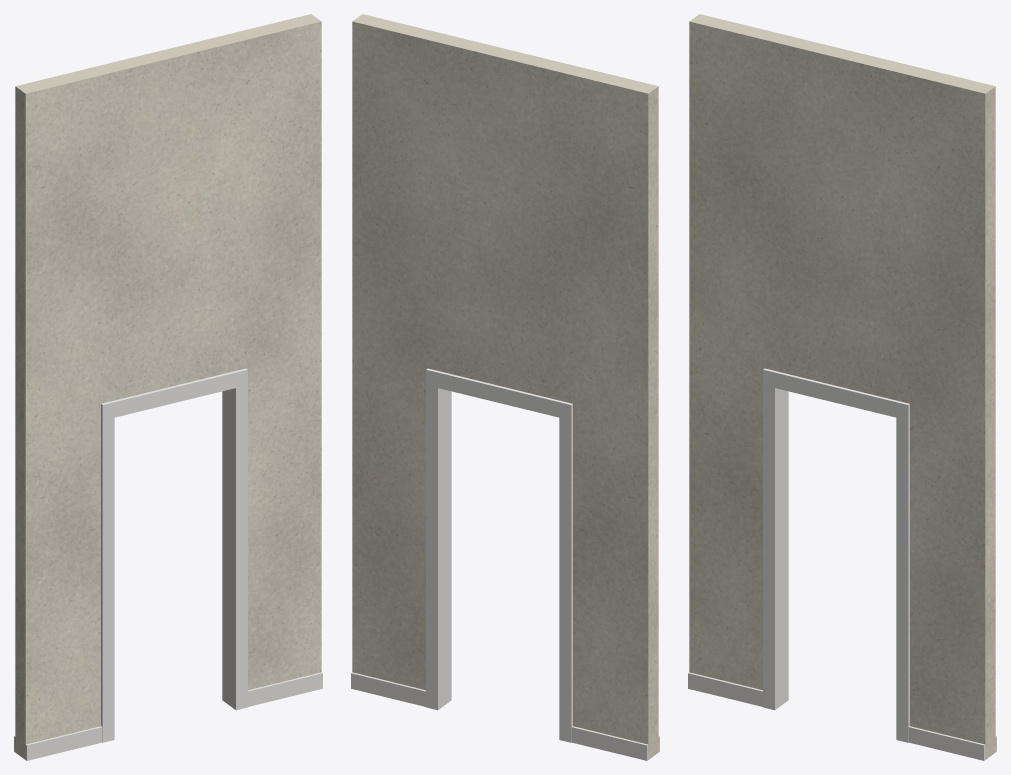
File: interior_wall_doorway.glb
The picture shows the model from 3 angles, left to right: view 1: azimuth 30°, elevation 25°; view 2: azimuth 150°, elevation 25°; view 3: azimuth 330°, elevation 25°; orthographic projection.
Visible parts, largest first — view 1: interior_wall_doorway_plaster, interior_wall_doorway_frame, interior_wall_doorway_trim; view 2: interior_wall_doorway_plaster, interior_wall_doorway_frame, interior_wall_doorway_trim; view 3: interior_wall_doorway_plaster, interior_wall_doorway_frame, interior_wall_doorway_trim.
Part boxes in pixels (x1=…): interior_wall_doorway_plaster: x1=15, y1=14, x2=321, y2=759; interior_wall_doorway_frame: x1=101, y1=368, x2=247, y2=742; interior_wall_doorway_trim: x1=14, y1=672, x2=322, y2=760; interior_wall_doorway_plaster: x1=352, y1=14, x2=658, y2=759; interior_wall_doorway_frame: x1=426, y1=368, x2=572, y2=742; interior_wall_doorway_trim: x1=351, y1=672, x2=659, y2=760; interior_wall_doorway_plaster: x1=689, y1=14, x2=995, y2=759; interior_wall_doorway_frame: x1=763, y1=368, x2=909, y2=742; interior_wall_doorway_trim: x1=688, y1=672, x2=996, y2=760.
Bounding box in the file's own units: 2 × 4.3 × 0.16.
3 materials, 1 textured.
